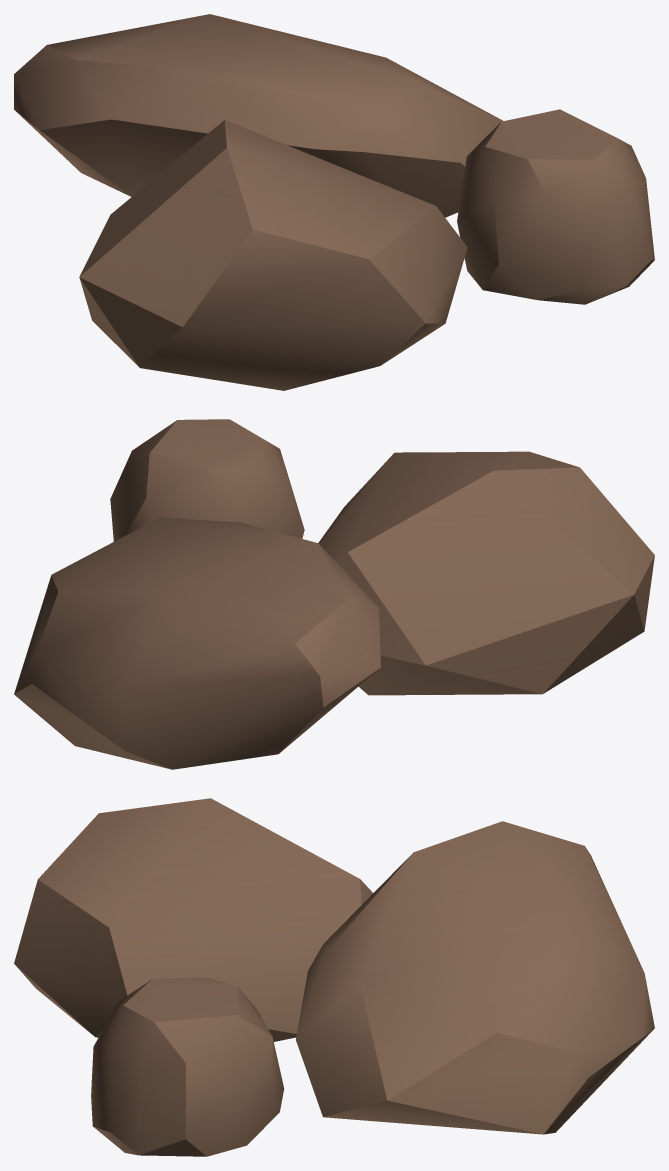
File: Stone04.fbx
3 renders of one model, top to bottom at view 1: azimuth 30°, elevation 25°; view 2: azimuth 150°, elevation 25°; view 3: azimuth 270°, elevation 25°, orthographic. The views are drawn at different scales.
Visible parts, largest first — view 1: Stone04; view 2: Stone04; view 3: Stone04.
Part boxes in pixels (x1,y1,x2,y2): Stone04: [14, 14, 654, 390]; Stone04: [14, 419, 654, 769]; Stone04: [14, 798, 654, 1156].
Size of the model in its own units: 298 by 114 by 312.
